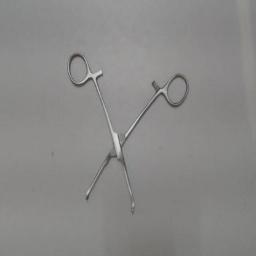Allis Tissue Forceps: (63, 46, 195, 220)
